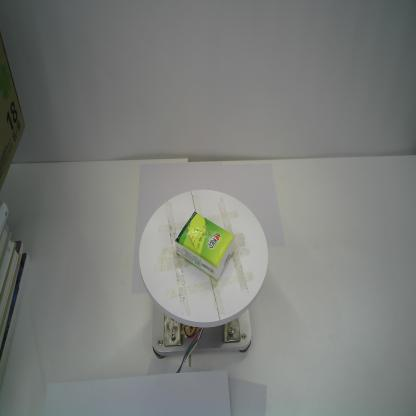Tissue: (174, 210, 238, 283)
